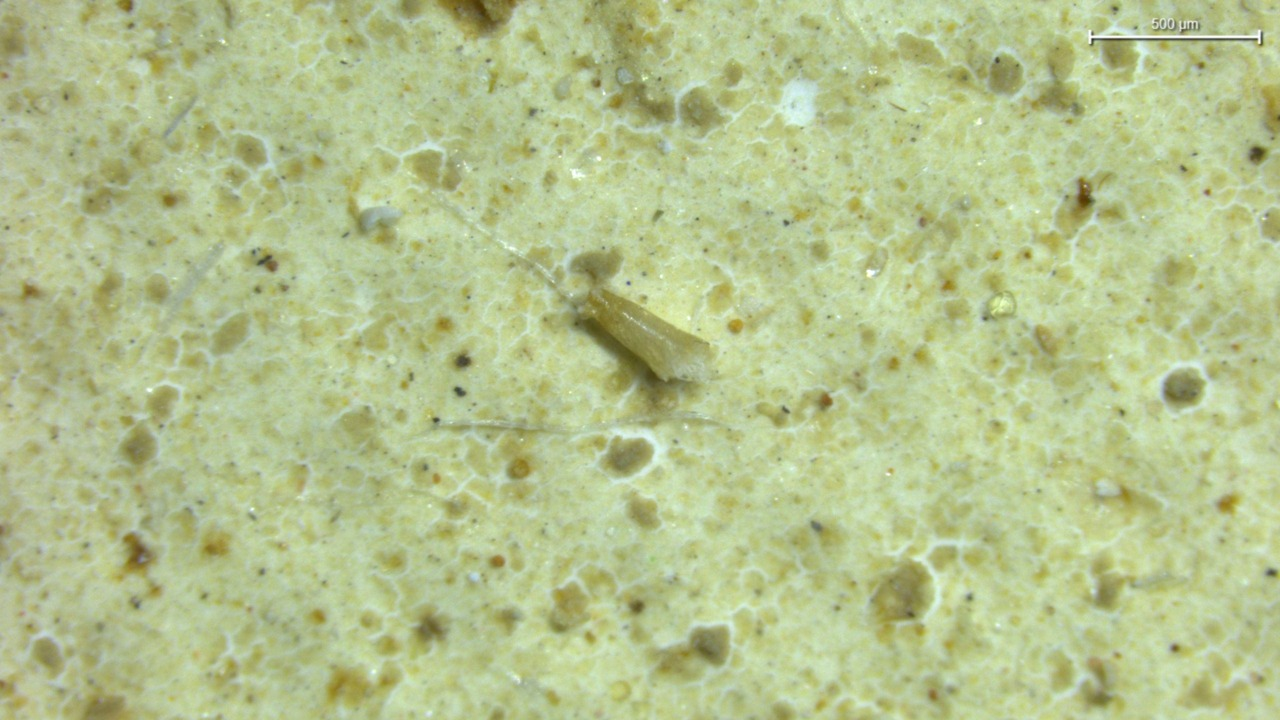microplastic_fragment: (583, 289, 716, 382), (360, 206, 401, 232)
